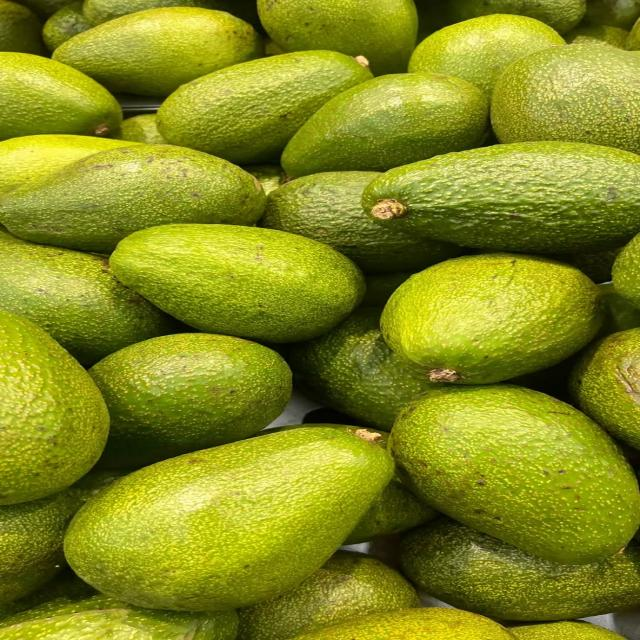avocado: (65, 427, 393, 610), (390, 385, 639, 564), (363, 142, 639, 253), (110, 225, 364, 342), (0, 144, 266, 253), (381, 254, 603, 384), (90, 334, 291, 468), (0, 230, 179, 366), (401, 518, 639, 620), (158, 51, 372, 164), (282, 73, 488, 177), (0, 311, 108, 504), (260, 172, 461, 272), (54, 7, 262, 96), (287, 307, 436, 431), (238, 551, 419, 639), (492, 45, 639, 152), (409, 14, 565, 97), (258, 0, 417, 75), (0, 52, 122, 140), (0, 595, 238, 639), (0, 490, 82, 604), (571, 328, 639, 448), (0, 135, 133, 195), (294, 608, 513, 639), (345, 473, 437, 545), (0, 567, 96, 624), (83, 0, 260, 28), (447, 0, 586, 33), (83, 0, 226, 25), (0, 0, 45, 55), (43, 0, 91, 51), (554, 248, 622, 283), (599, 283, 639, 336), (510, 621, 623, 639), (71, 468, 129, 502), (613, 235, 639, 308), (361, 272, 413, 307), (585, 0, 639, 29), (565, 25, 628, 49), (118, 114, 167, 144), (243, 164, 290, 195), (20, 0, 69, 19), (627, 19, 639, 51)
